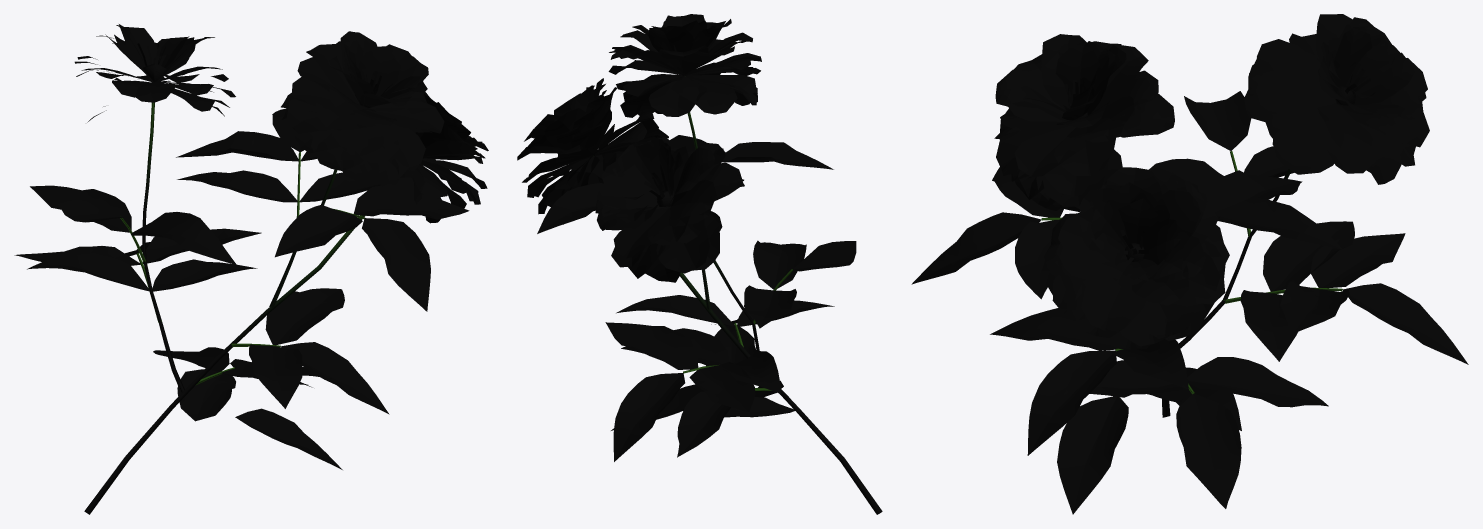
The model's file is Flower01.FBX.
3 views of the same model, side by side, from view 1: azimuth 30°, elevation 25°; view 2: azimuth 150°, elevation 25°; view 3: azimuth 270°, elevation 25° (orthographic). The views are drawn at different scales.
Visible parts, largest first — view 1: maxtree_windtree_028_03; view 2: maxtree_windtree_028_03; view 3: maxtree_windtree_028_03.
Boxes of the visible parts, left/top/right/bottom form: maxtree_windtree_028_03: left=14, top=24, right=488, bottom=514; maxtree_windtree_028_03: left=517, top=14, right=882, bottom=514; maxtree_windtree_028_03: left=911, top=14, right=1468, bottom=514.
Size of the model in its own units: 12.66 by 13.95 by 14.05.
